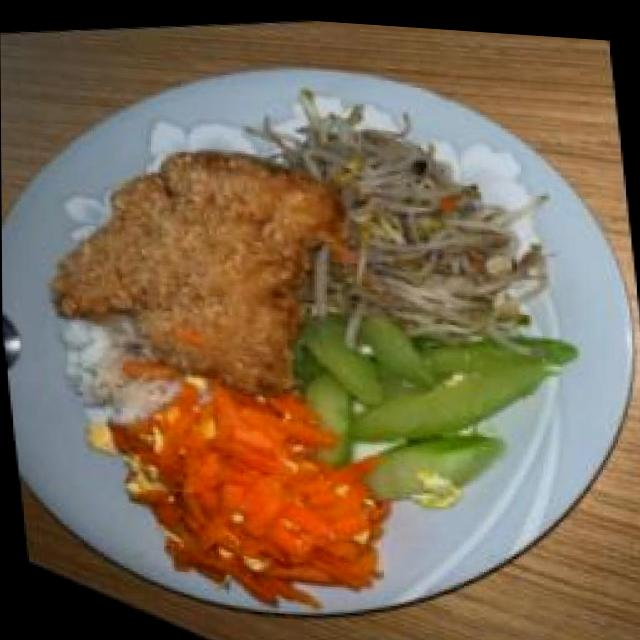carrot_eggs: (112, 356, 391, 608)
fried_chicken: (29, 116, 365, 417)
mung_bean_sprouts: (316, 112, 512, 355)
rice: (49, 300, 187, 438)
